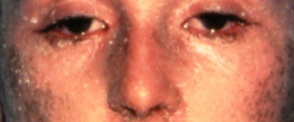SJS-TEN: (3, 0, 289, 121)
